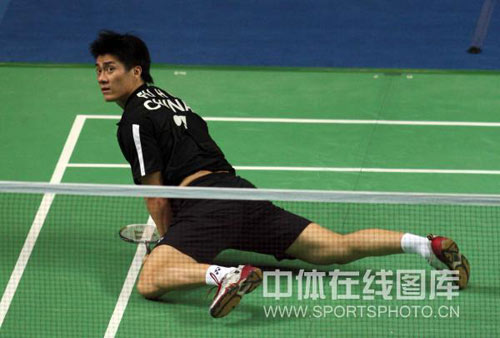fall: (76, 18, 483, 319)
